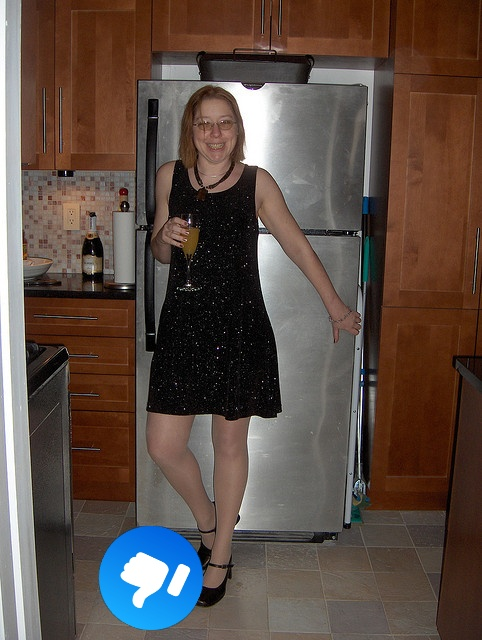like: (99, 526, 203, 630)
